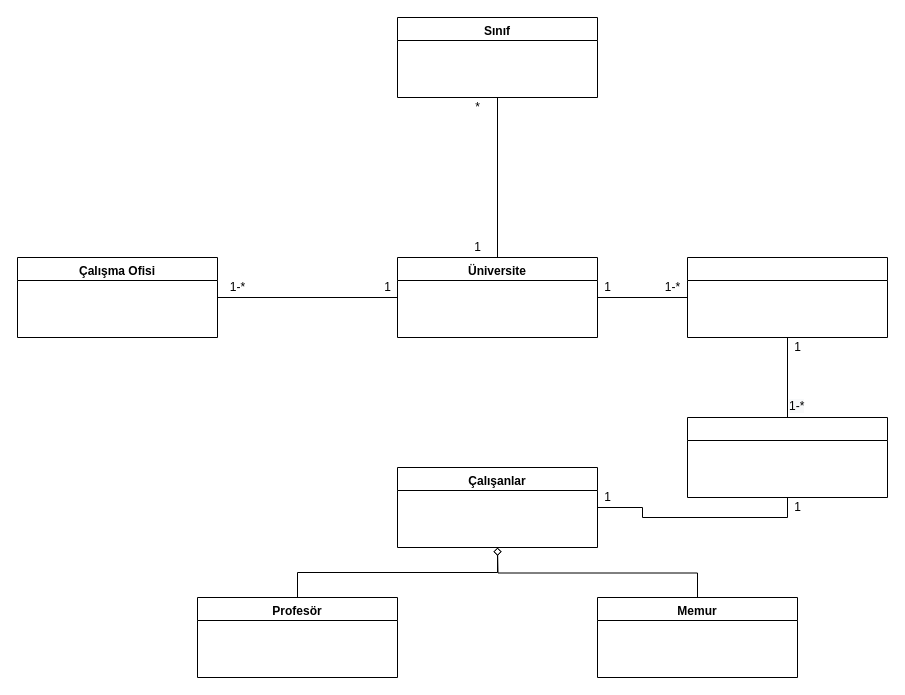
Image size: 905x695. Some labels were removed from this diagram. The centre of each missing label's shape, as x and y in pixels:
Departman: point (787, 297)
Ofis: point (787, 457)
